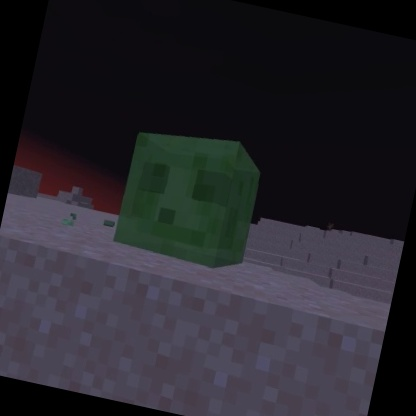slime: (107, 113, 273, 278)
